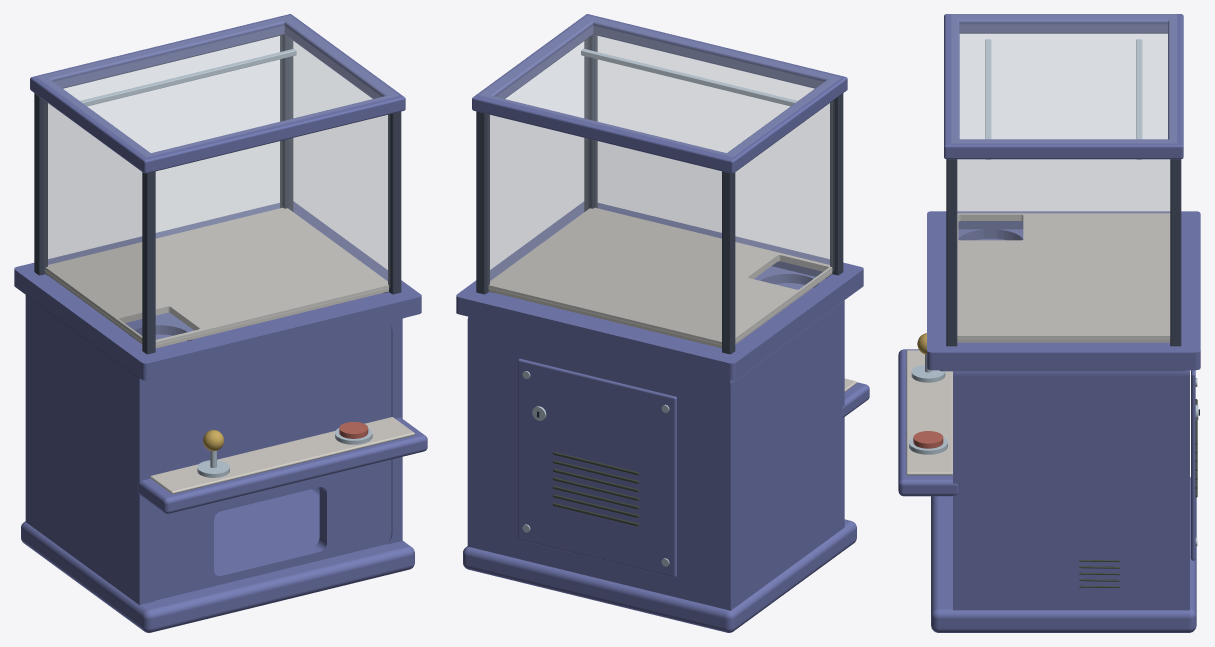
The model's file is machine-sky.glb.
3 renders of one model, left to right at view 1: azimuth 30°, elevation 25°; view 2: azimuth 150°, elevation 25°; view 3: azimuth 270°, elevation 25°, orthographic. The views are drawn at different scales.
Visible parts, largest first — view 1: CabinetShell_Batch0, CabinetShell_Batch1, CabinetShell_Batch2; view 2: CabinetShell_Batch0, CabinetShell_Batch1, CabinetShell_Batch2; view 3: CabinetShell_Batch0, CabinetShell_Batch1, CabinetShell_Batch2, ClawJoystick_Batch0, ClawButton_Batch1.
Boxes of the visible parts, x1=… form: CabinetShell_Batch0: x1=14, y1=14, x2=427, y2=632; CabinetShell_Batch1: x1=37, y1=15, x2=398, y2=344; CabinetShell_Batch2: x1=80, y1=48, x2=296, y2=106; CabinetShell_Batch0: x1=456, y1=14, x2=869, y2=632; CabinetShell_Batch1: x1=479, y1=16, x2=840, y2=344; CabinetShell_Batch2: x1=522, y1=49, x2=797, y2=566; CabinetShell_Batch0: x1=898, y1=14, x2=1200, y2=632; CabinetShell_Batch1: x1=951, y1=14, x2=1176, y2=339; CabinetShell_Batch2: x1=985, y1=39, x2=1198, y2=546; ClawJoystick_Batch0: x1=911, y1=354, x2=945, y2=382; ClawButton_Batch1: x1=913, y1=431, x2=943, y2=448.
Bounding box in the file's own units: 0.257 × 0.4292 × 0.232.
